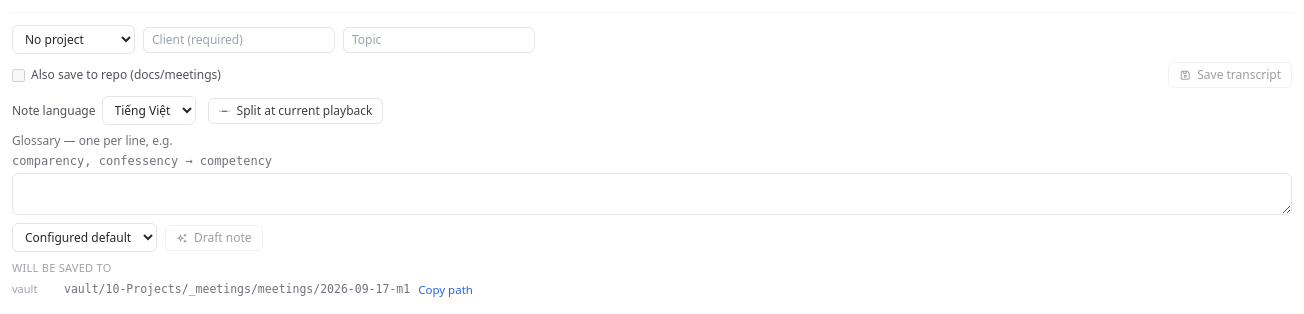
it: the destination shown in the panel › follows the picker: changing the project changes the path
Type "Chị Kate" into the field labelled "Client" at x=239, y=40, box [143, 26, 335, 52]
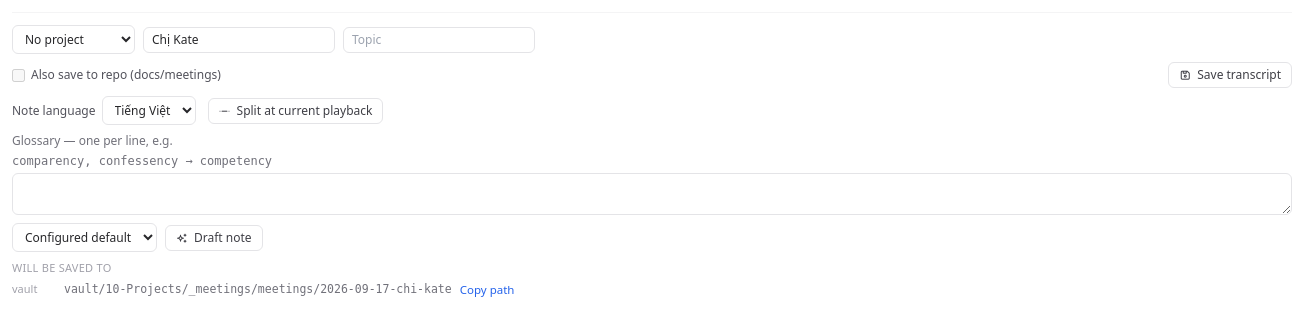
Select "Mantu" in the dropdown named "Project or workspace" at x=74, y=40, box [12, 25, 135, 54]
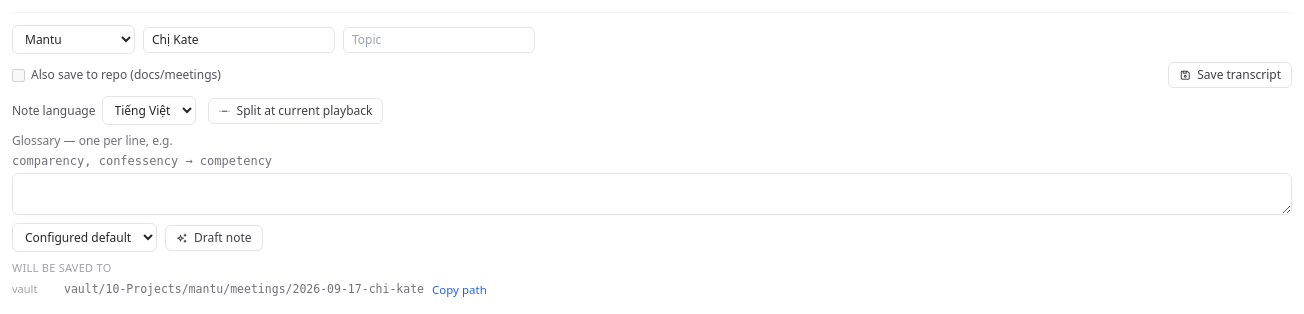
Expected: the element with test id "destination-vault" does not show "juvenis-maxime"
Expected: the text with test id "destination-vault" shows "/mantu/", [64, 282, 424, 296]
Select "JuvenisMaxime" in the dropdown named "Project or workspace" at x=74, y=40, box [12, 25, 135, 54]
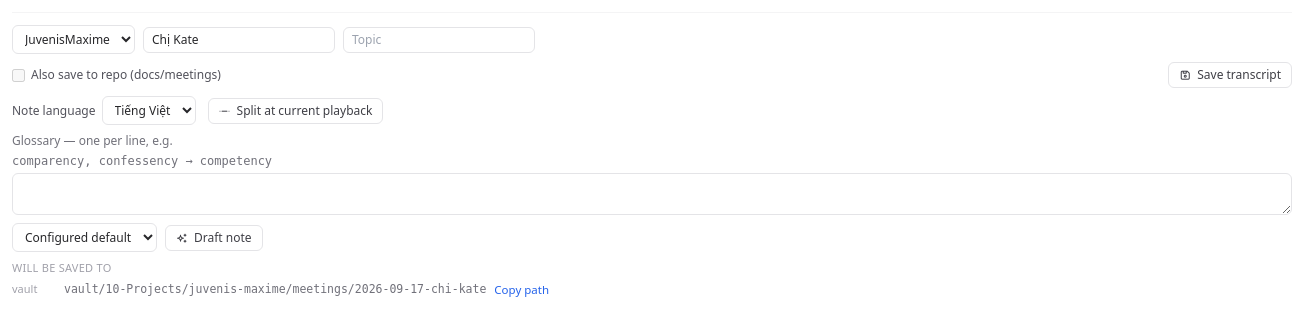
Expected: the text with test id "destination-vault" shows "/juvenis-maxime/", [64, 282, 486, 296]
Expected: the text with test id "destination-vault" no longer shows "/mantu/"
